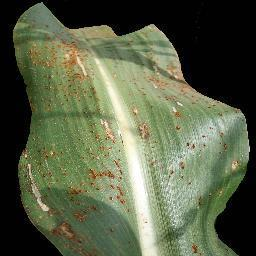Corn_Common_Rust: (11, 14, 97, 112), (12, 135, 127, 196), (133, 54, 209, 100), (41, 208, 99, 256), (97, 20, 159, 46), (18, 196, 127, 207), (147, 160, 189, 180), (131, 105, 153, 142), (81, 113, 116, 135), (205, 101, 243, 117), (170, 101, 186, 134), (108, 47, 124, 80), (224, 156, 246, 176), (217, 126, 230, 153), (190, 239, 206, 256), (184, 139, 201, 152), (195, 194, 207, 209), (213, 185, 227, 197), (203, 132, 210, 151), (203, 123, 215, 132)
